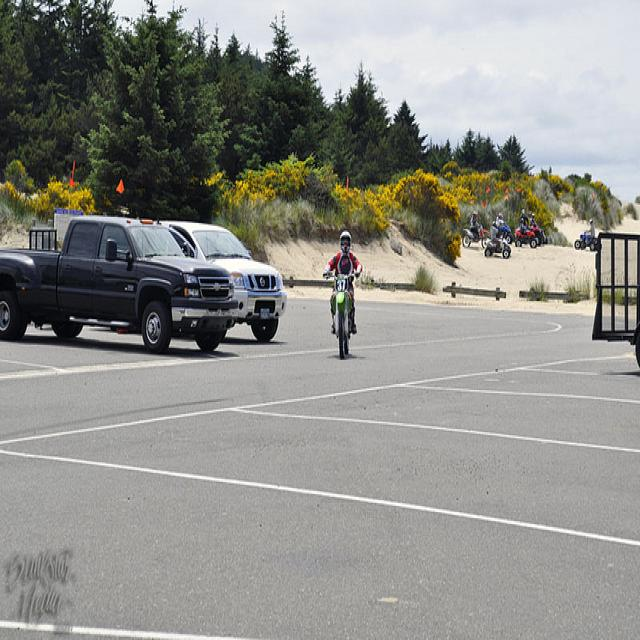motor: (323, 271, 358, 364), (462, 226, 491, 248), (485, 236, 511, 258), (516, 229, 538, 249), (534, 228, 543, 245)
